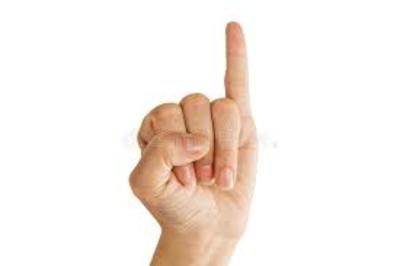closedhandfront: (133, 94, 278, 235)
mindinho: (221, 7, 264, 103)
